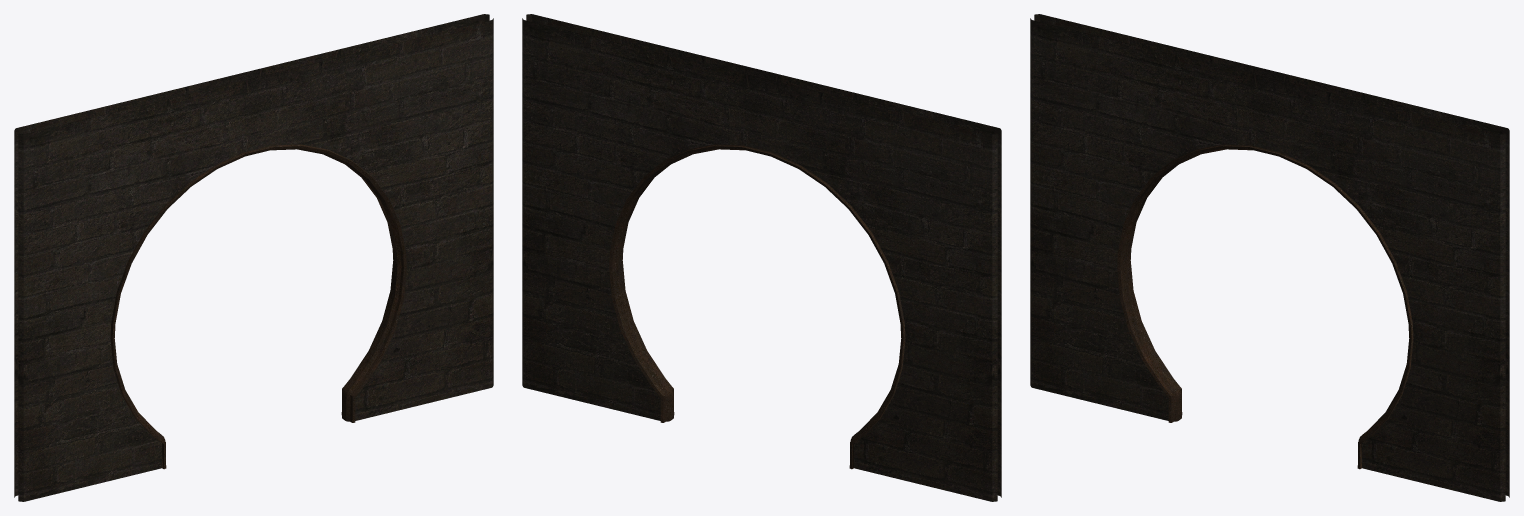
File: wall_1_tunnel_hole.glb
The picture shows the model from 3 angles, left to right: view 1: azimuth 30°, elevation 25°; view 2: azimuth 150°, elevation 25°; view 3: azimuth 330°, elevation 25°; orthographic projection.
Parts seen in each view (by area): view 1: wall_1_tunnel_hole; view 2: wall_1_tunnel_hole; view 3: wall_1_tunnel_hole.
Part boxes in pixels (left/top/right/bottom): wall_1_tunnel_hole: left=14, top=14, right=493, bottom=501; wall_1_tunnel_hole: left=522, top=14, right=1001, bottom=501; wall_1_tunnel_hole: left=1030, top=14, right=1509, bottom=501.
Bounding box in the file's own units: 4.06 × 3 × 0.1697.
Materials: 2 (2 with a texture image).
